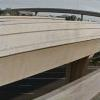Bridge: (2, 6, 98, 77)
